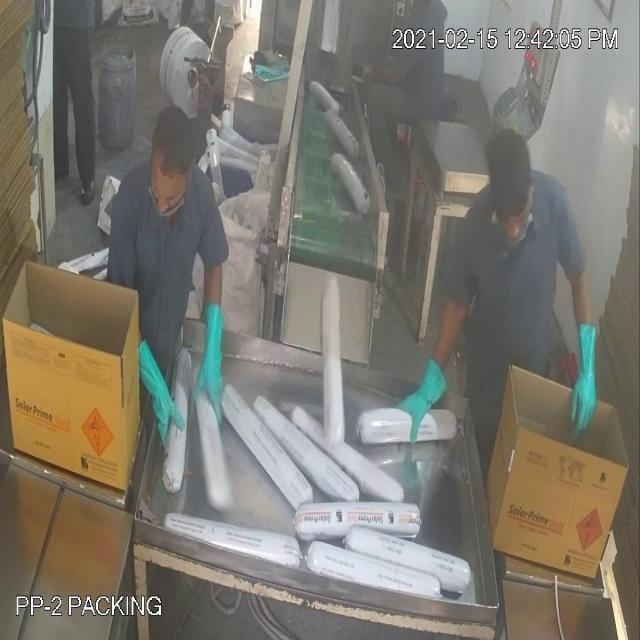No_Gloves: (42, 41, 586, 398)
